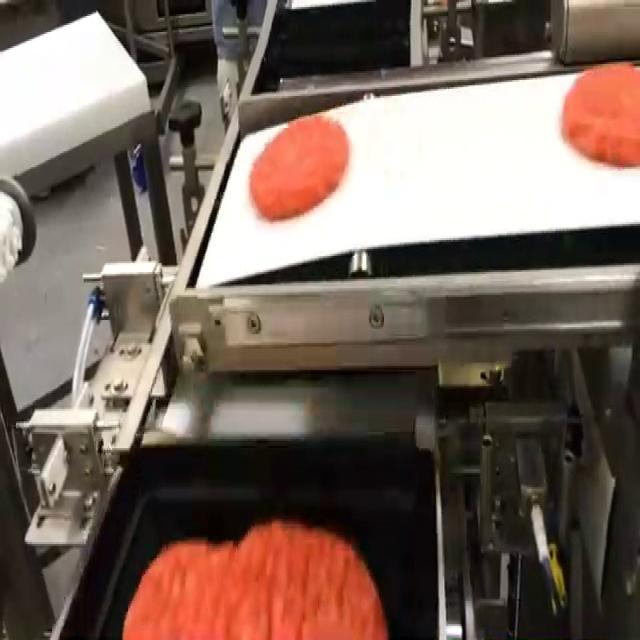4-hamburguer: (122, 519, 387, 638)
